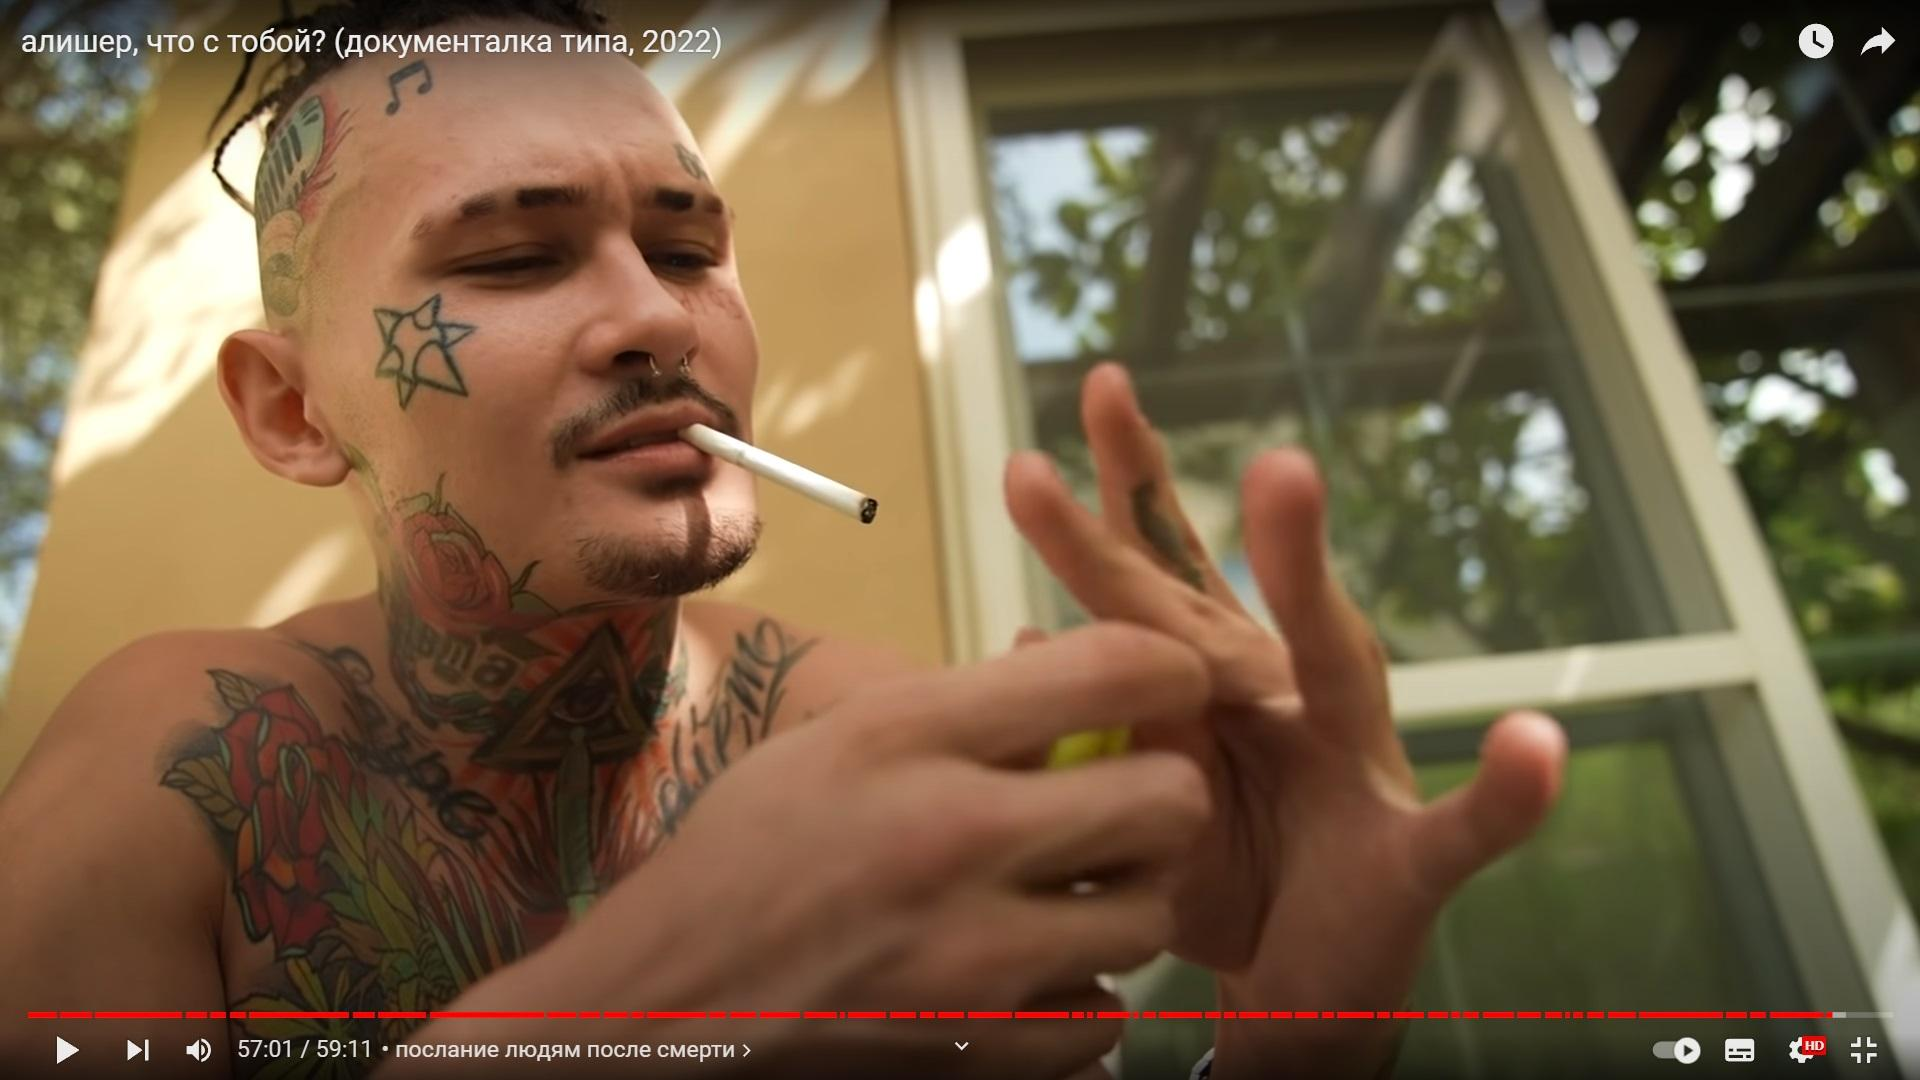cigarette: (676, 422, 880, 525)
